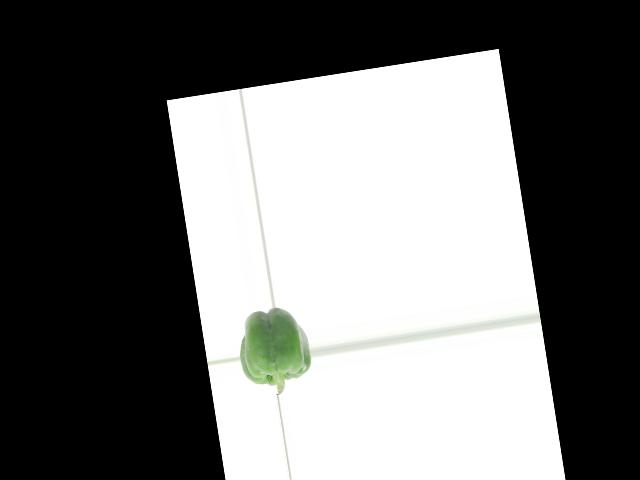bell_pepper: (233, 303, 314, 398)
